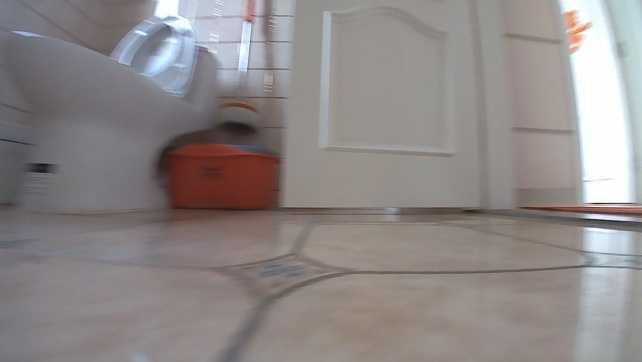door_anno: (275, 0, 483, 211)
toilet: (8, 11, 221, 216)
